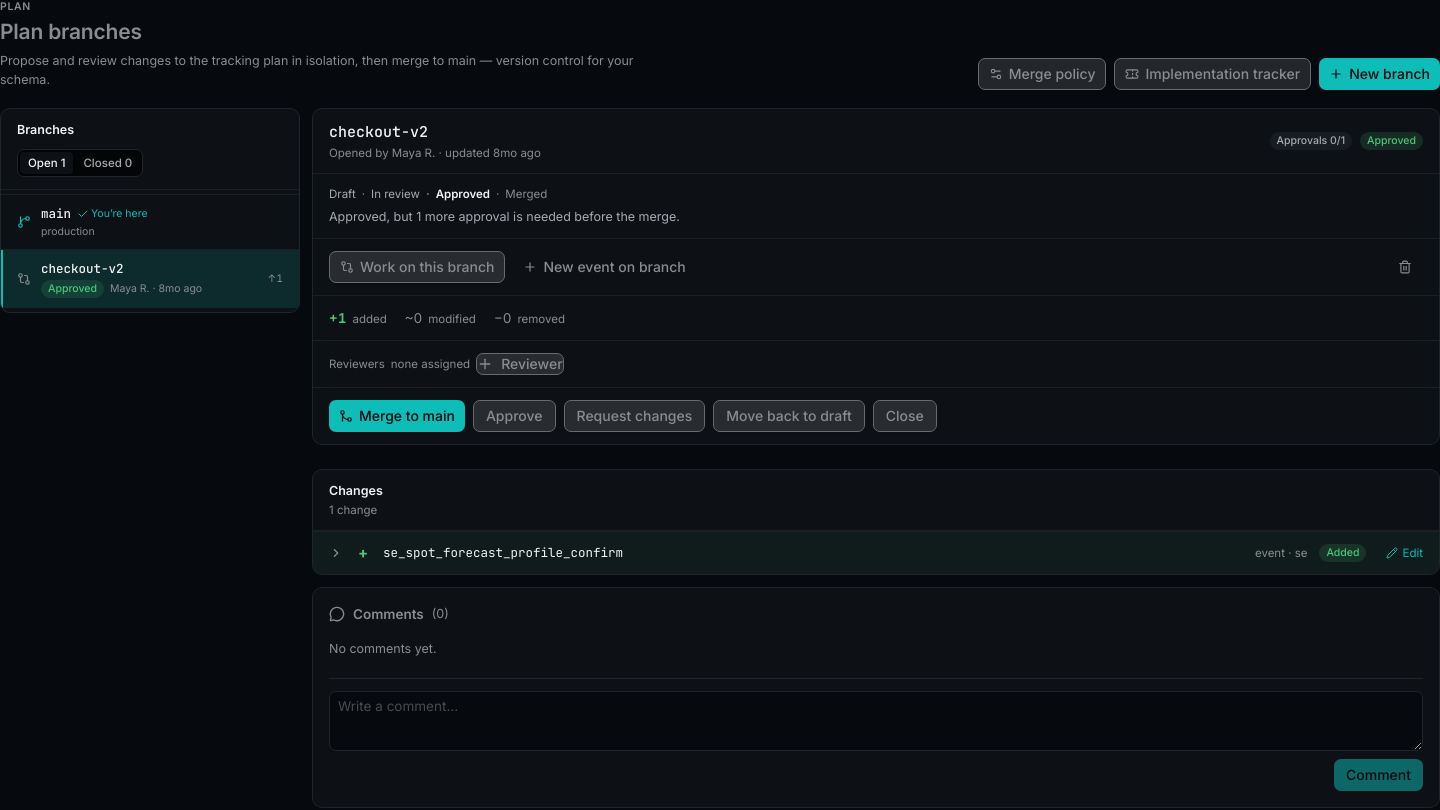
Scenario: BranchesTab › reads a created event as a table, not as middot-joined prose
Step 1. Click the button "+ se_spot_forecast_profile_confirm event · se Added" → [503, 552], box [313, 532, 1382, 574]
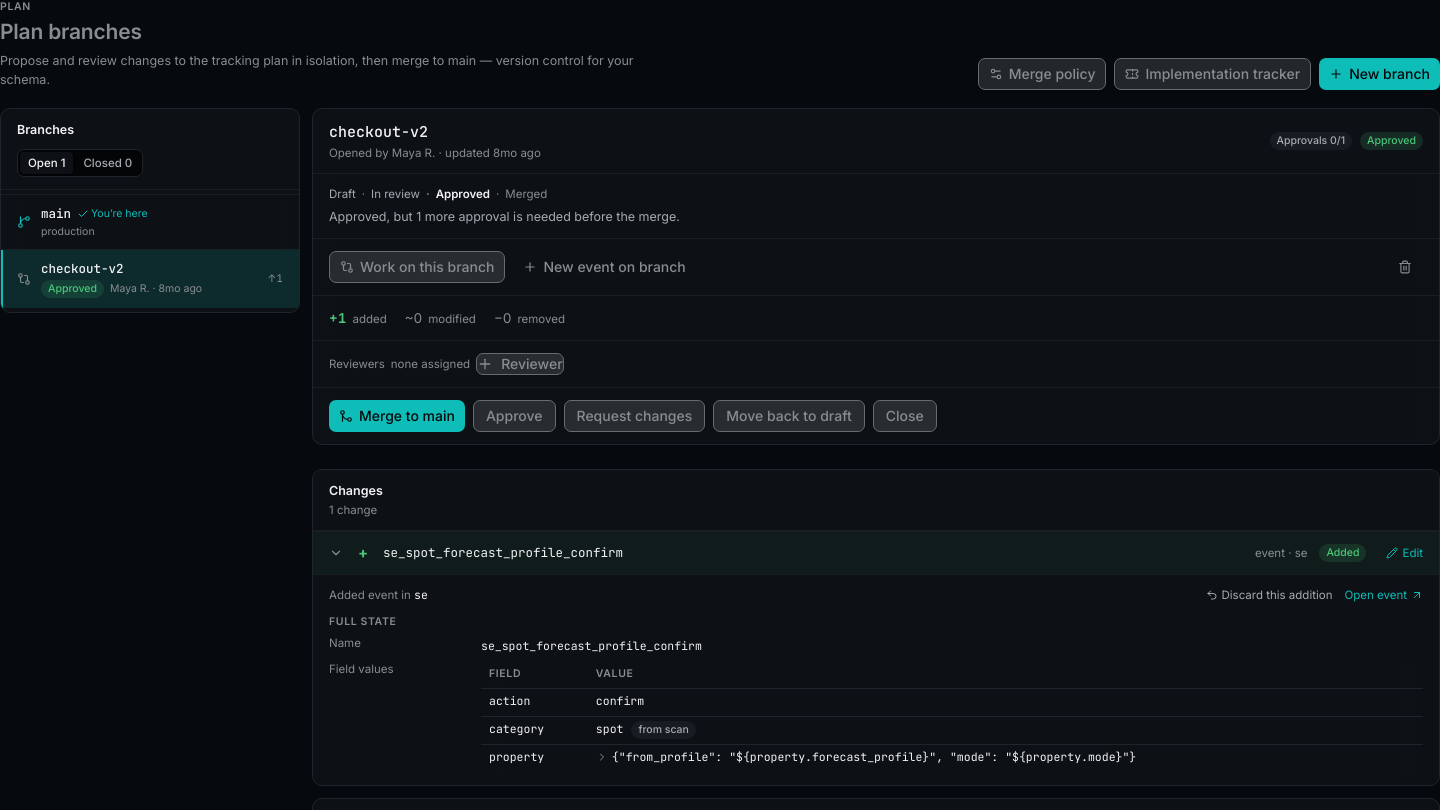
Check: the column heading "Field" is shown, box [481, 660, 588, 688]
Check: the column heading "Value" is shown, box [588, 660, 1423, 688]
Check: the text "from scan" is shown, box [632, 721, 696, 739]
Step 2. Click the button "from_profile" → [866, 757], box [596, 749, 1136, 765]
(page scrolled)
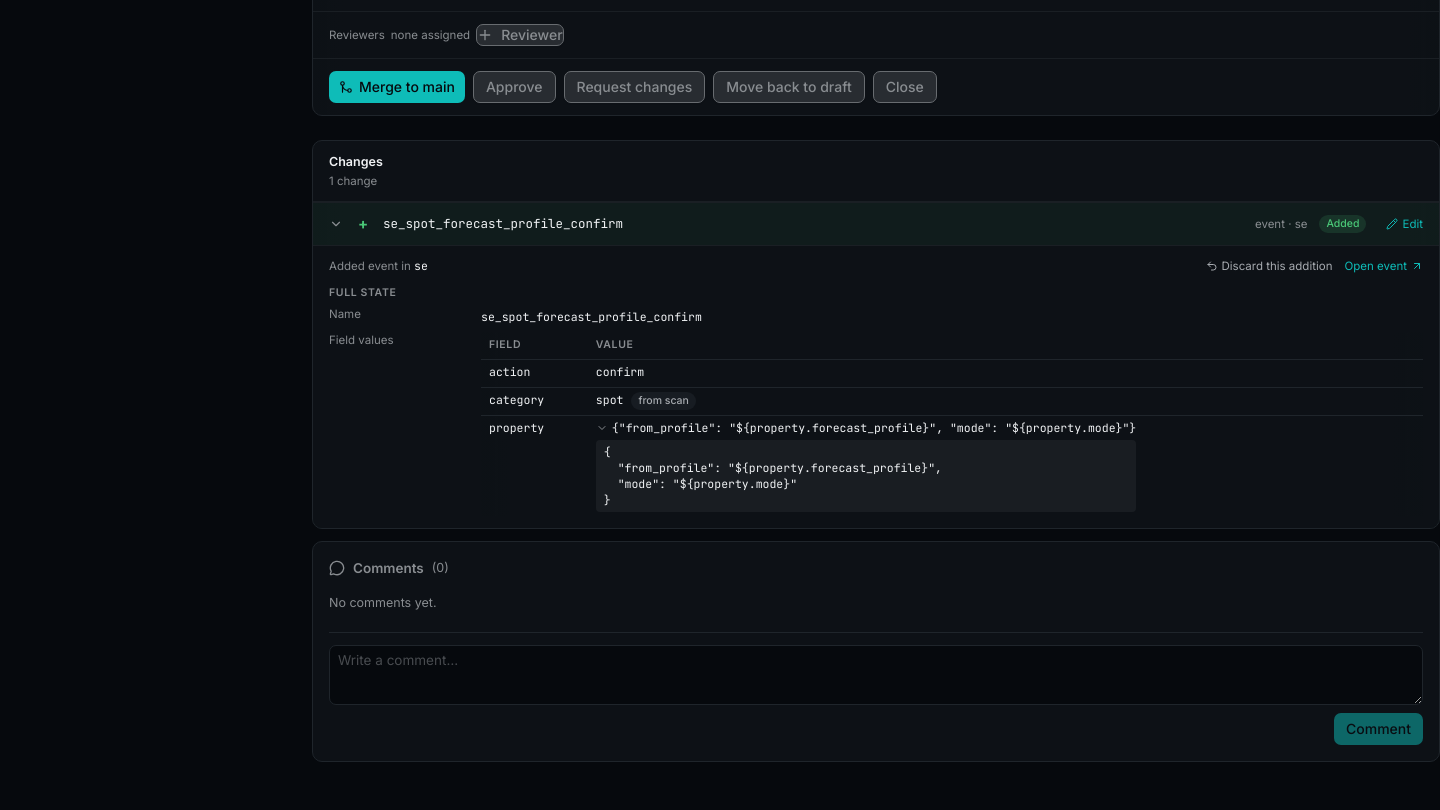
Check: the button "from_profile" is expanded, box [596, 420, 1136, 436]
Check: the text "\"mode\": \"${property.mode}\"" is shown, box [604, 444, 942, 507]
